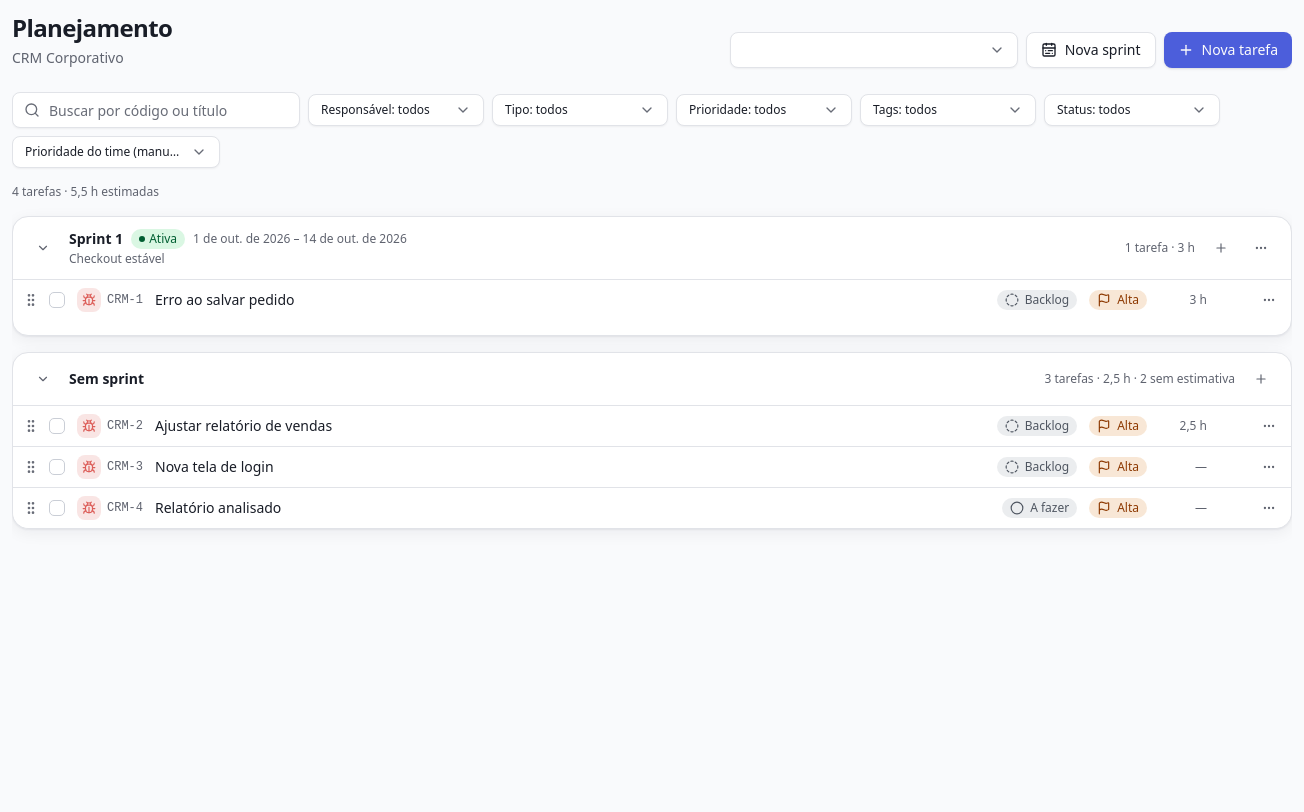
BacklogPage › tarefa já analisada aparece com o status, pode voltar ao backlog e o status filtra a lista
Check: the text "A fazer" is shown, box [1030,500,1069,516]
Click the button named "Ações de CRM-4".
click(1269, 508)  # box [1255,494,1283,522]
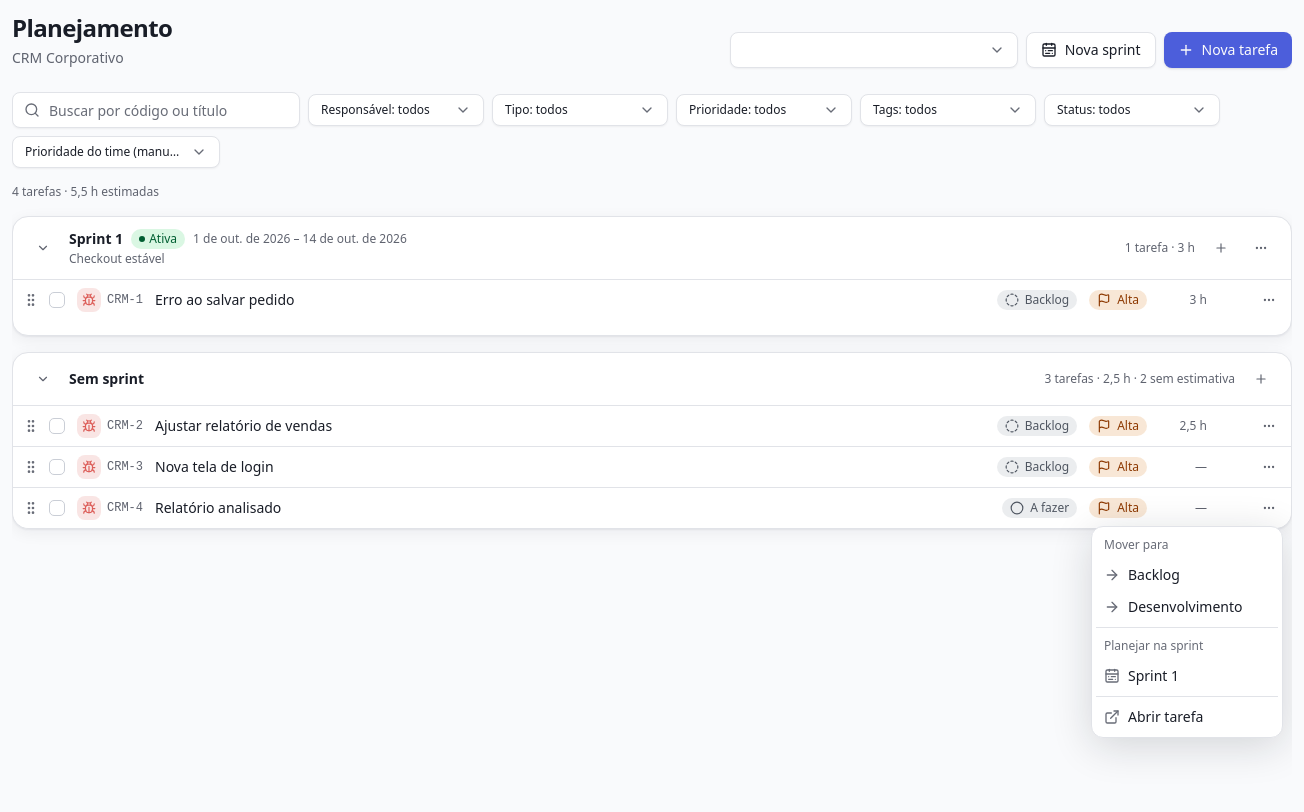
Click the menu item "Backlog".
click(1142, 574)  # box [1104,565,1180,584]
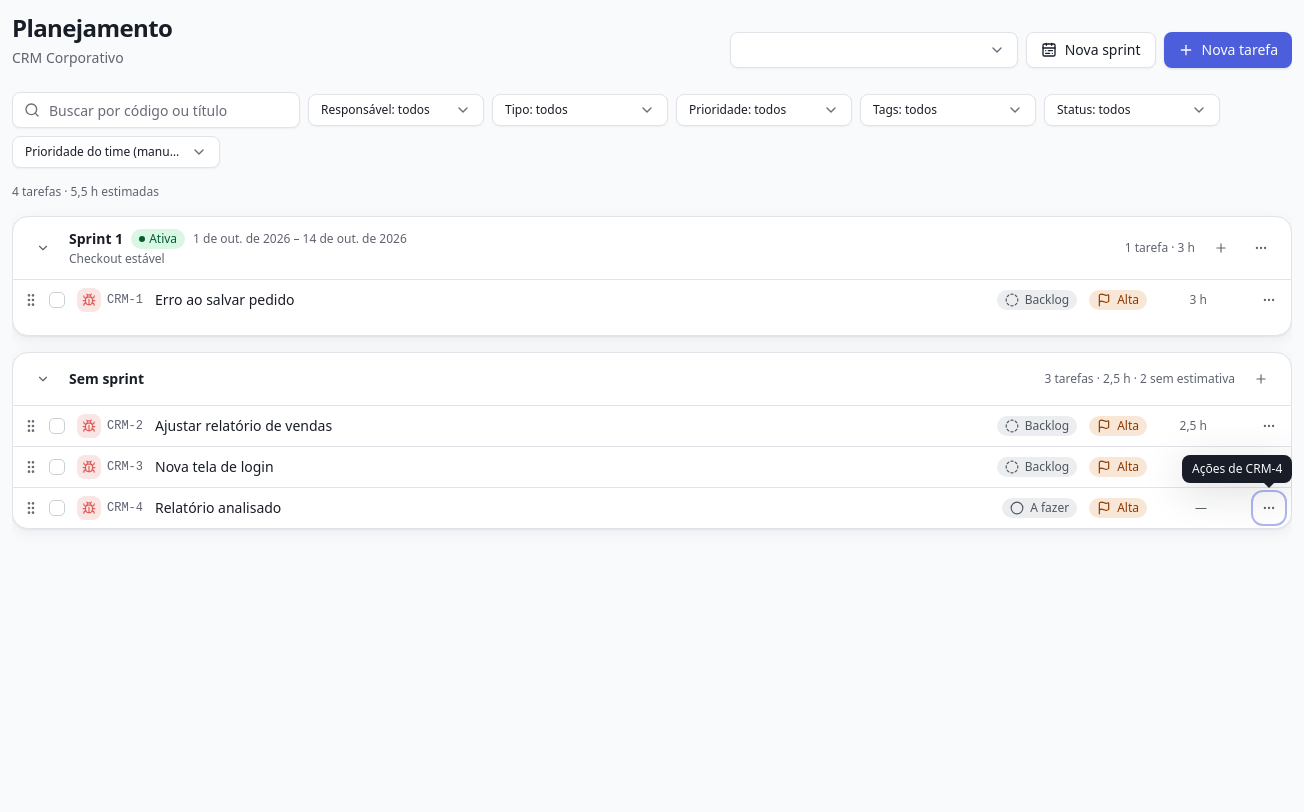
Click the dropdown labelled "Status".
click(1132, 110)  # box [1044,94,1220,126]
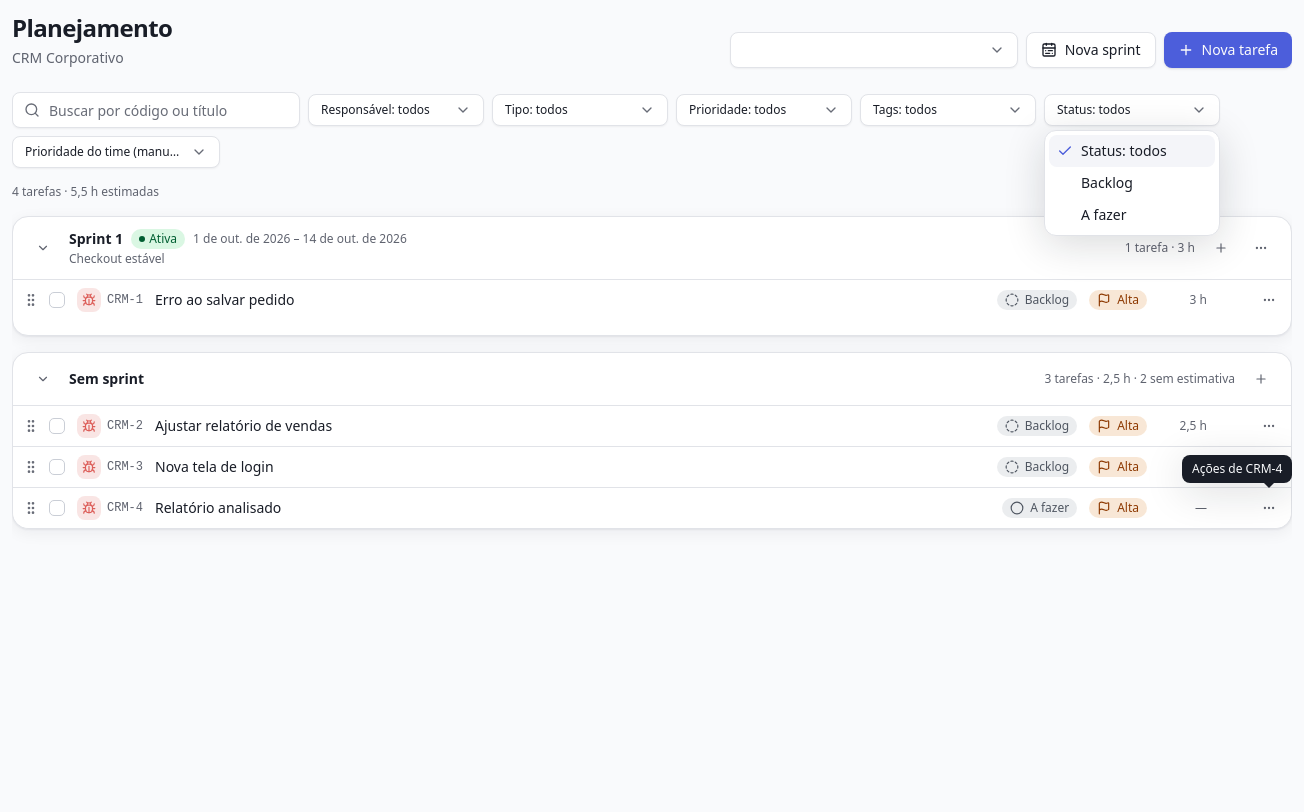
Click the option "A fazer".
click(1104, 214)  # box [1081,205,1126,224]
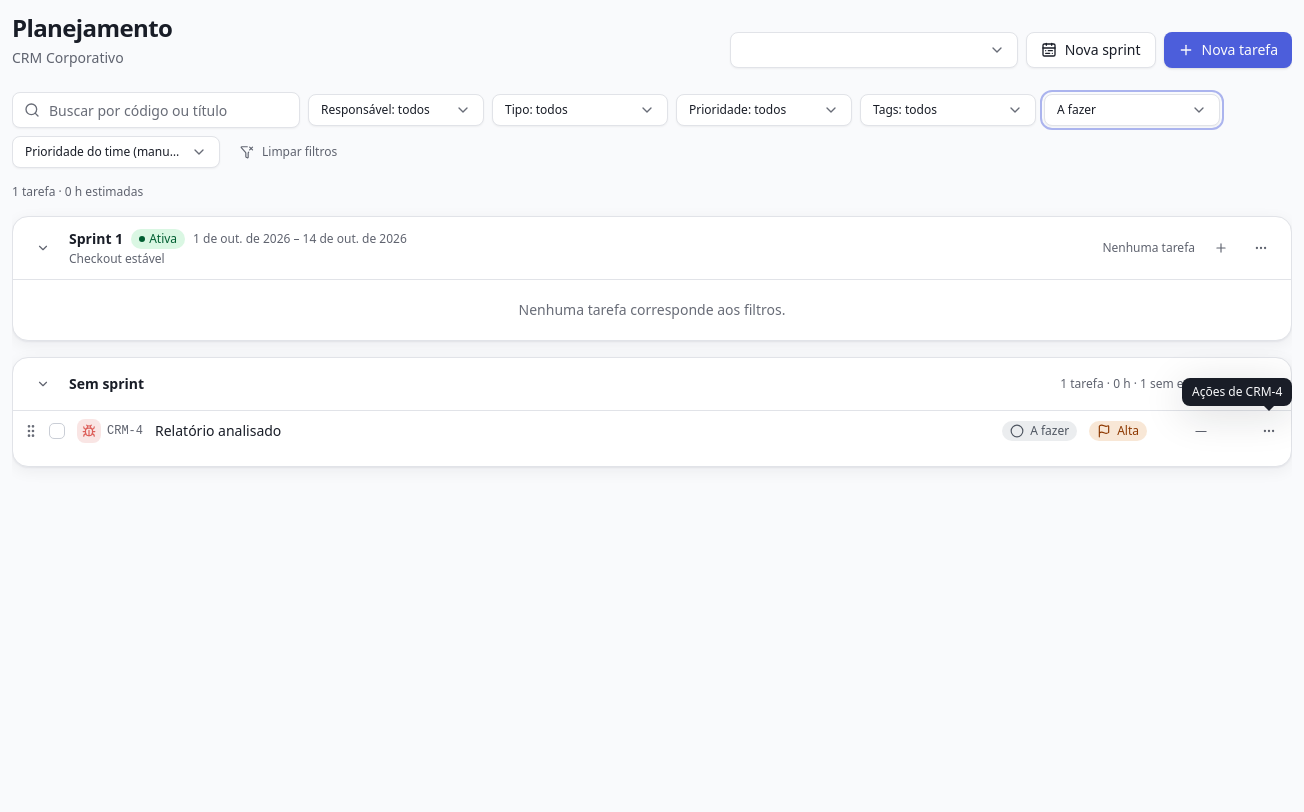
Check: the text "Relatório analisado" is shown, box [155,421,281,441]
Check: the button "Nova tela de login" is gone
